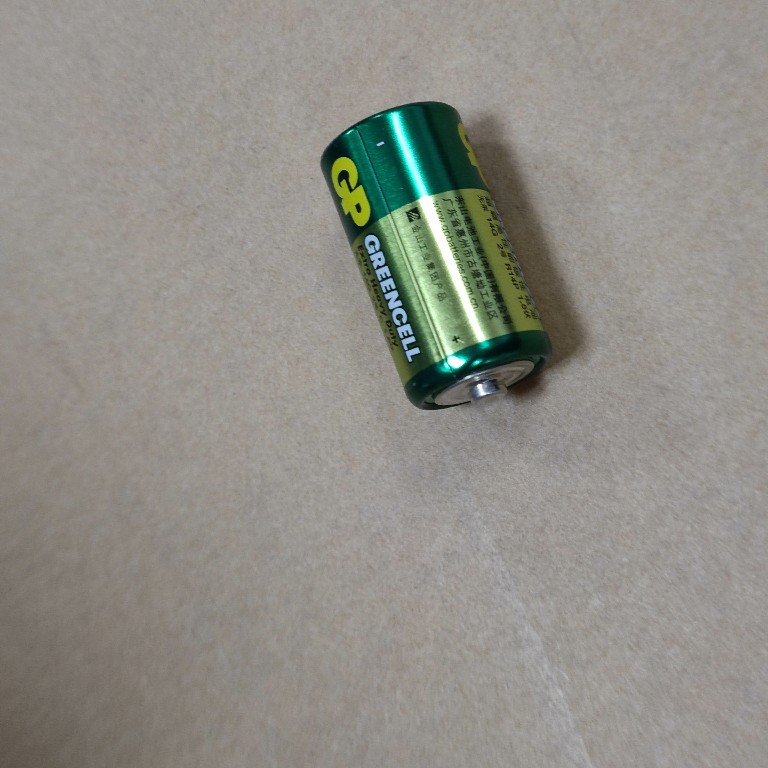charge: (318, 97, 555, 416)
